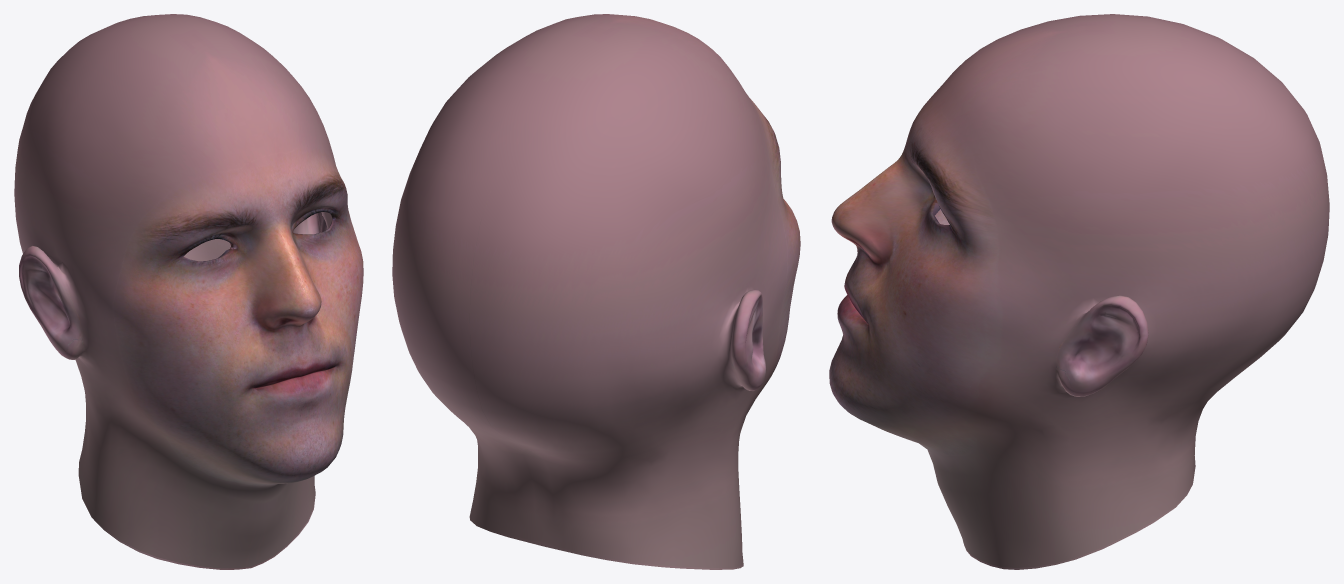
3 renders of one model, left to right at view 1: azimuth 30°, elevation 25°; view 2: azimuth 150°, elevation 25°; view 3: azimuth 270°, elevation 25°, orthographic. The views are drawn at different scales.
Visible parts, largest first — view 1: FaceGen; view 2: FaceGen; view 3: FaceGen.
Part boxes in pixels (bbox=[...]): FaceGen: bbox=[14, 14, 363, 569]; FaceGen: bbox=[392, 14, 800, 569]; FaceGen: bbox=[829, 14, 1329, 569].
Size of the model in its own units: 179 by 277 by 242.
Materials: 1 (1 with a texture image).
